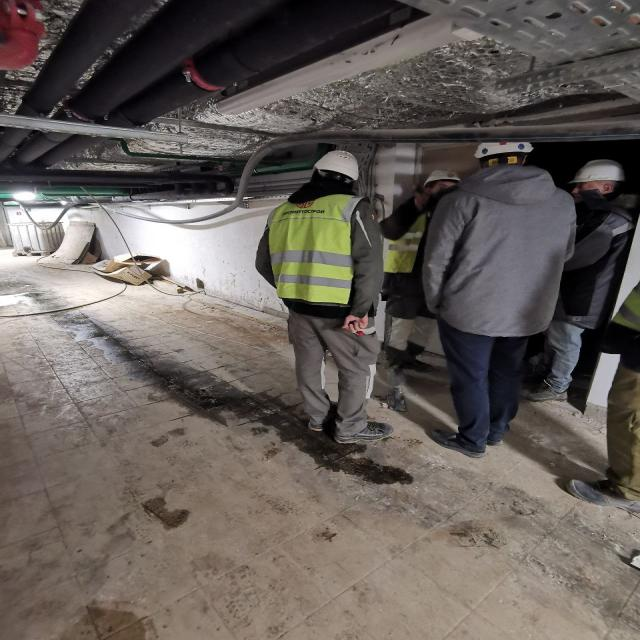Helmet: (569, 160, 632, 202), (308, 151, 365, 193), (473, 139, 534, 171), (422, 173, 464, 198)
